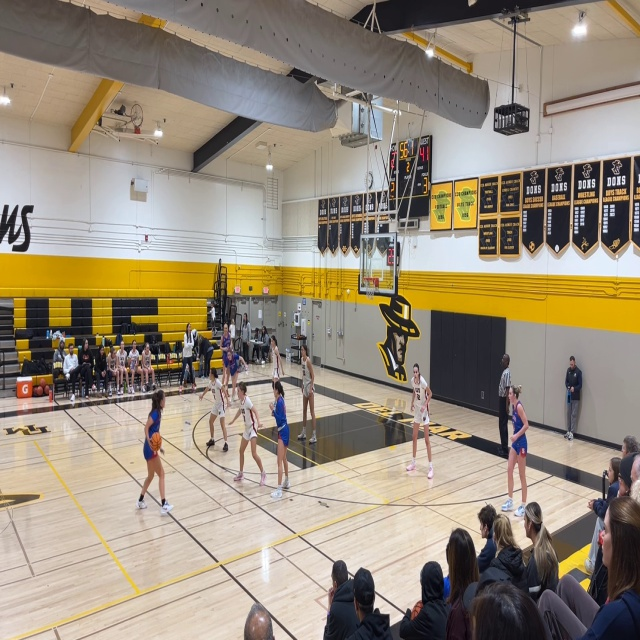Basketball: (149, 432, 161, 451)
